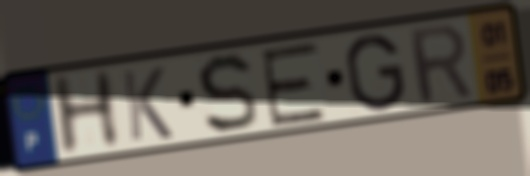E: (257, 38, 328, 130)
G: (342, 31, 409, 114)
H: (47, 67, 125, 160)
K: (118, 64, 176, 144)
R: (405, 20, 477, 109)
S: (194, 51, 261, 138)
